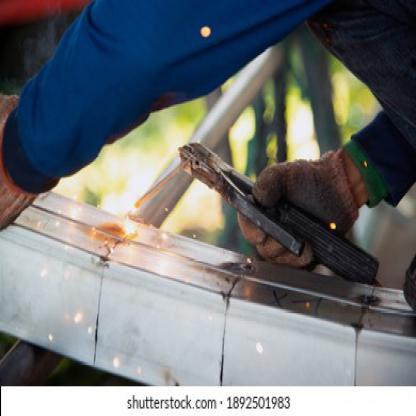with_gloves: (236, 152, 359, 274), (1, 94, 40, 230)
